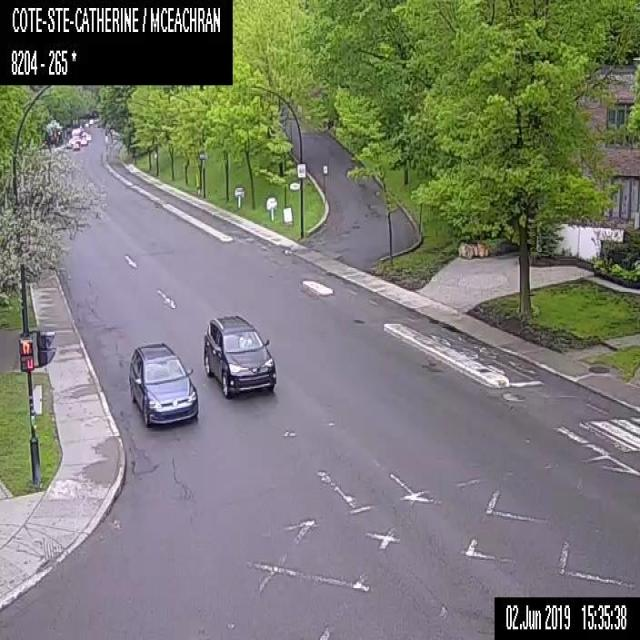vehicle: (127, 341, 198, 428), (202, 313, 275, 396), (72, 141, 79, 149), (80, 137, 87, 144), (66, 140, 72, 148), (86, 133, 91, 140)
